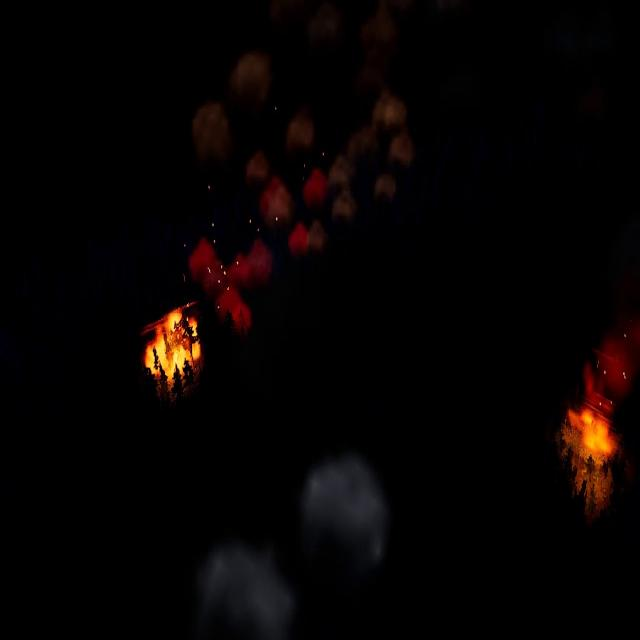fire: (561, 363, 615, 464), (147, 310, 204, 381)
smoke: (185, 0, 407, 335), (192, 450, 388, 640), (586, 168, 636, 405)
